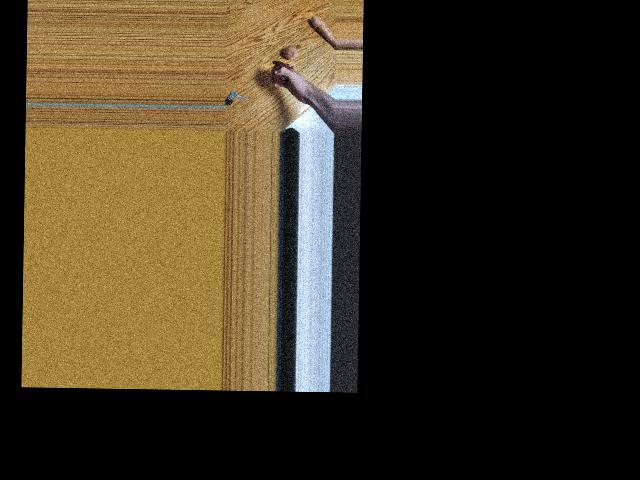onion: (283, 44, 297, 61)
